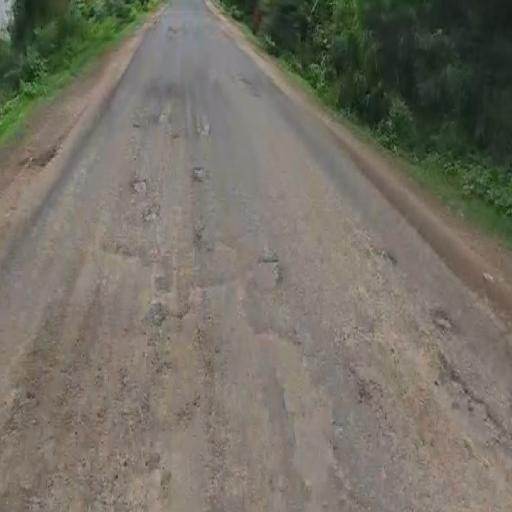ravelling: (19, 221, 369, 500)
